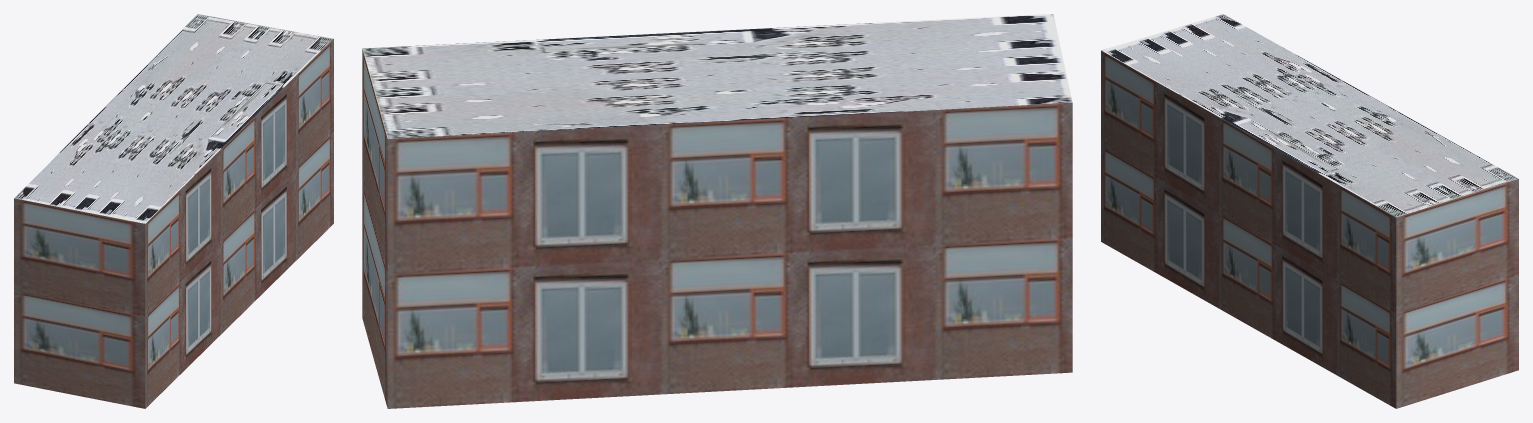
Rendered from ResTex__2375.fbx.
3 renders of one model, left to right at view 1: azimuth 30°, elevation 25°; view 2: azimuth 150°, elevation 25°; view 3: azimuth 270°, elevation 25°, orthographic. The views are drawn at different scales.
Visible parts, largest first — view 1: CityEngineMaterial_19_m, CityEngineMaterial_15_m; view 2: CityEngineMaterial_19_m, CityEngineMaterial_15_m; view 3: CityEngineMaterial_19_m, CityEngineMaterial_15_m.
Boxes of the visible parts, <box> form: CityEngineMaterial_19_m: <box>14,39,333,408</box>; CityEngineMaterial_15_m: <box>14,14,333,223</box>; CityEngineMaterial_19_m: <box>362,49,1072,408</box>; CityEngineMaterial_15_m: <box>362,14,1072,138</box>; CityEngineMaterial_19_m: <box>1101,50,1518,408</box>; CityEngineMaterial_15_m: <box>1101,14,1518,217</box>.
Bounding box in the file's own units: 13.69 × 6 × 11.87.
Materials: 2 (2 with a texture image).
